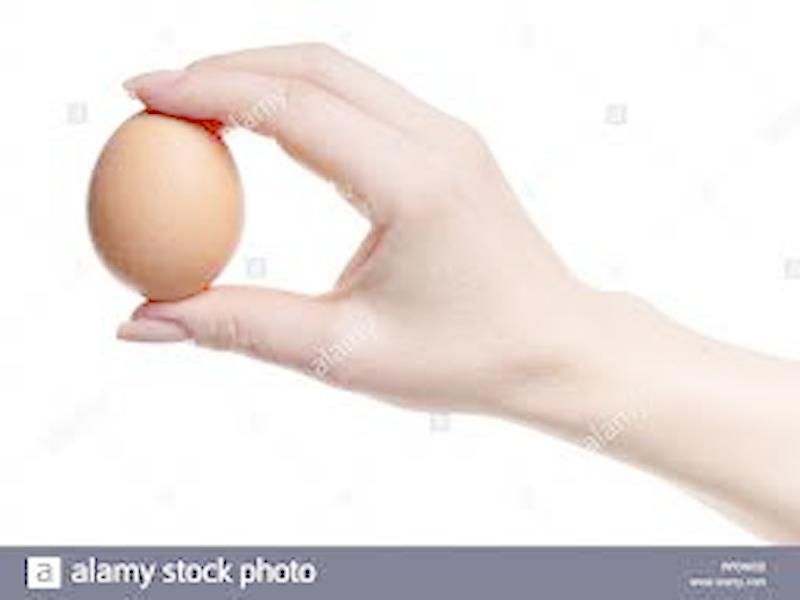Eggs: (88, 109, 248, 297)
